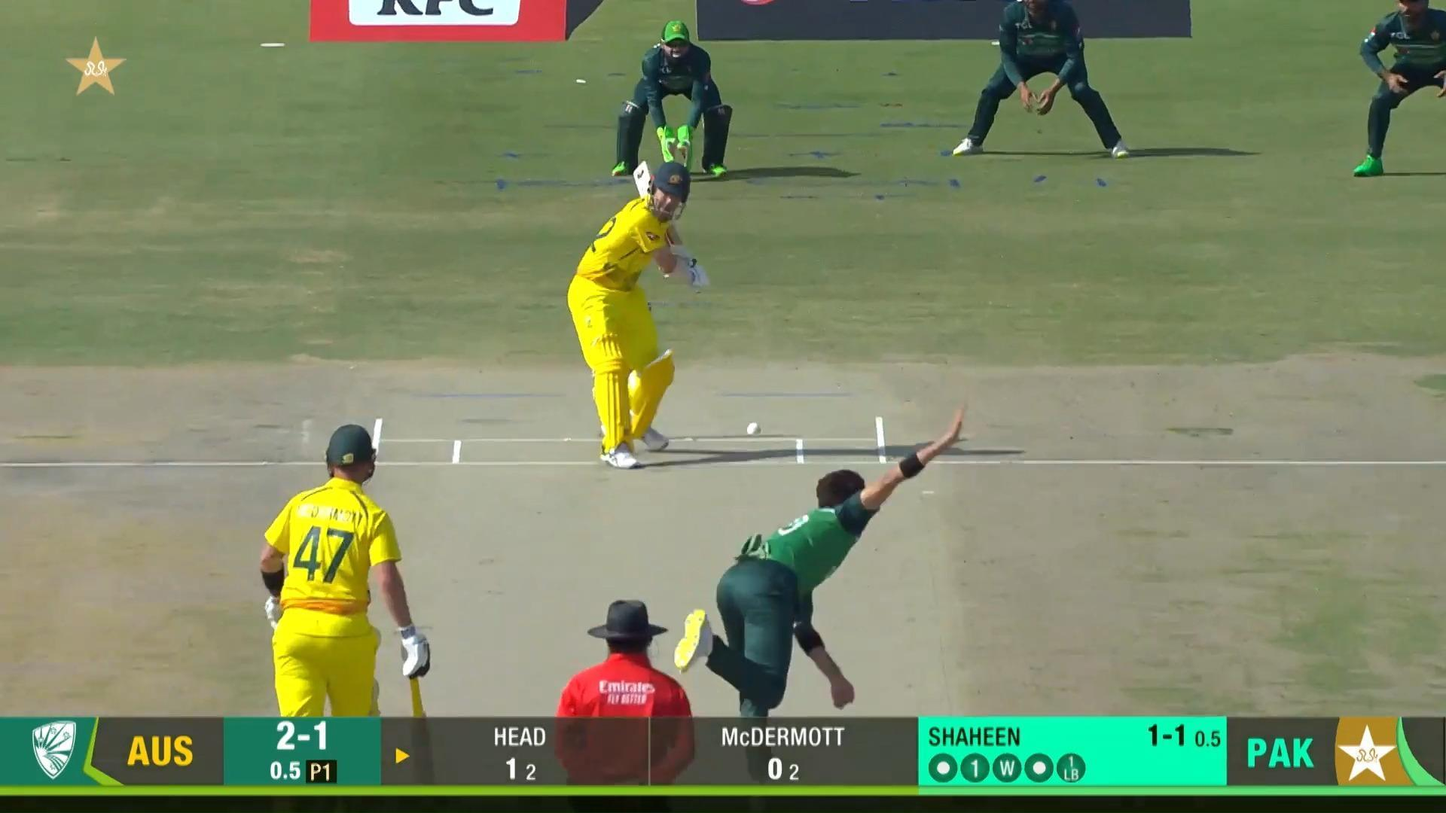BM 1: (567, 161, 710, 469)
BO: (670, 397, 977, 813)
